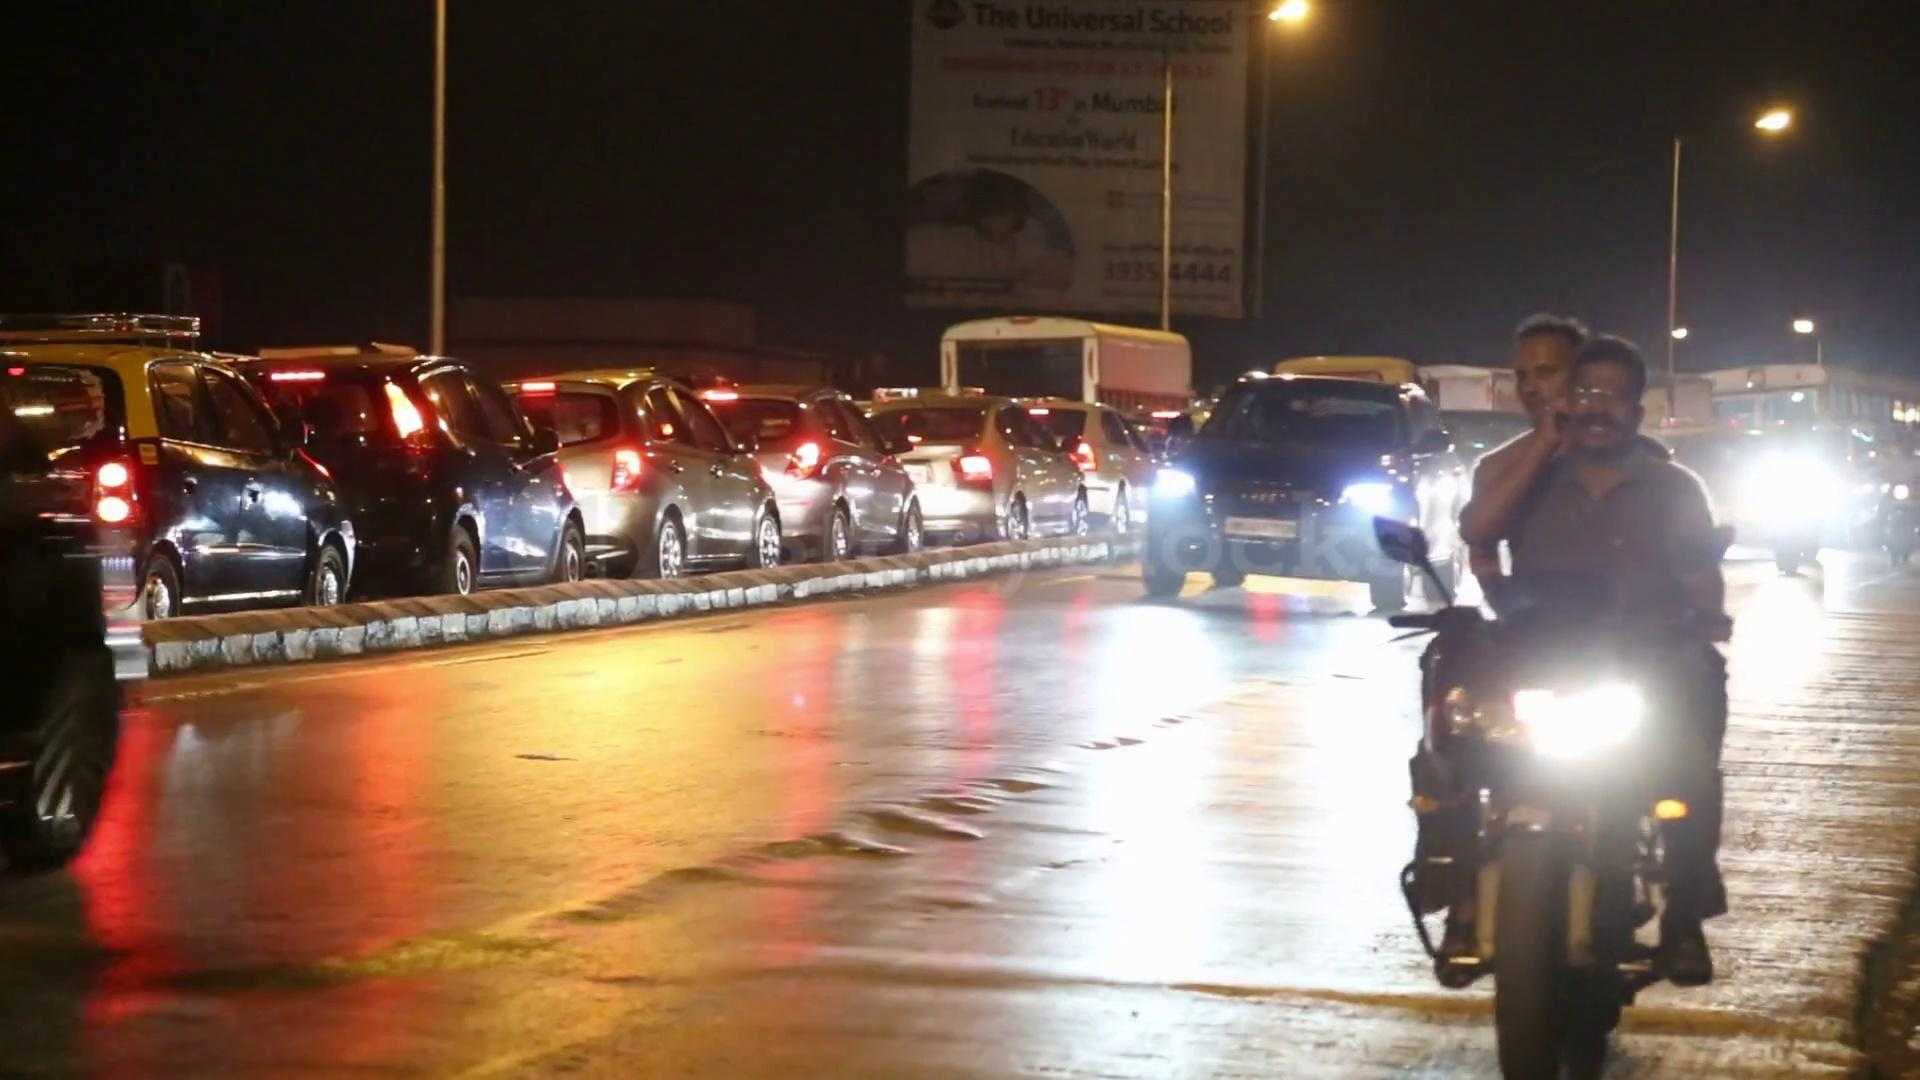rider: (1406, 328, 1735, 988)
without_helmate: (1566, 337, 1647, 460), (1496, 307, 1564, 426)
